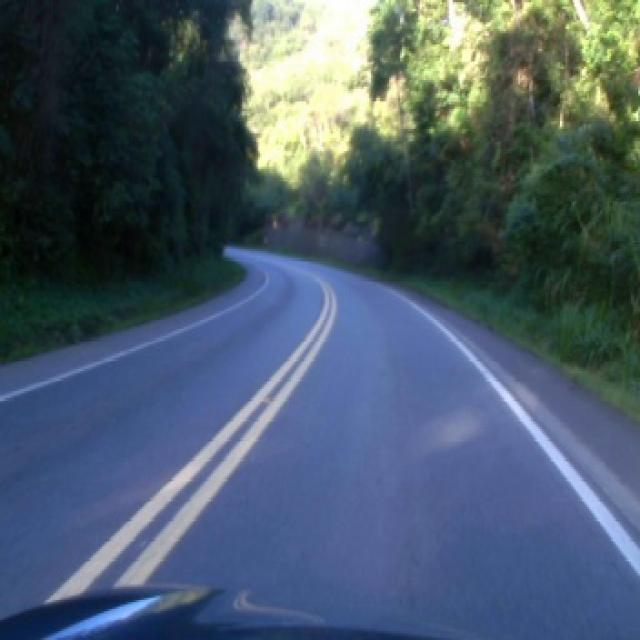Poth-hole: (260, 393, 271, 402)
